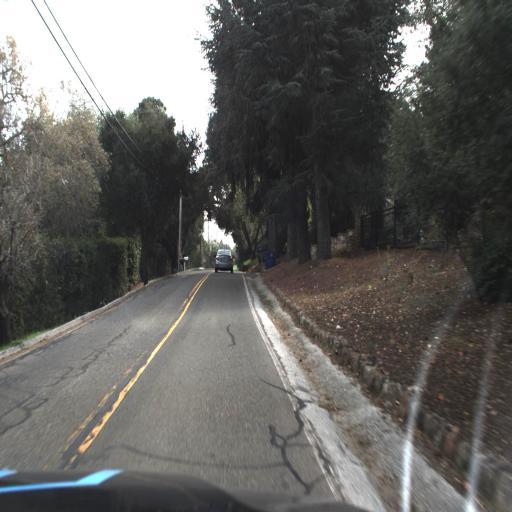car: (209, 244, 234, 281)
